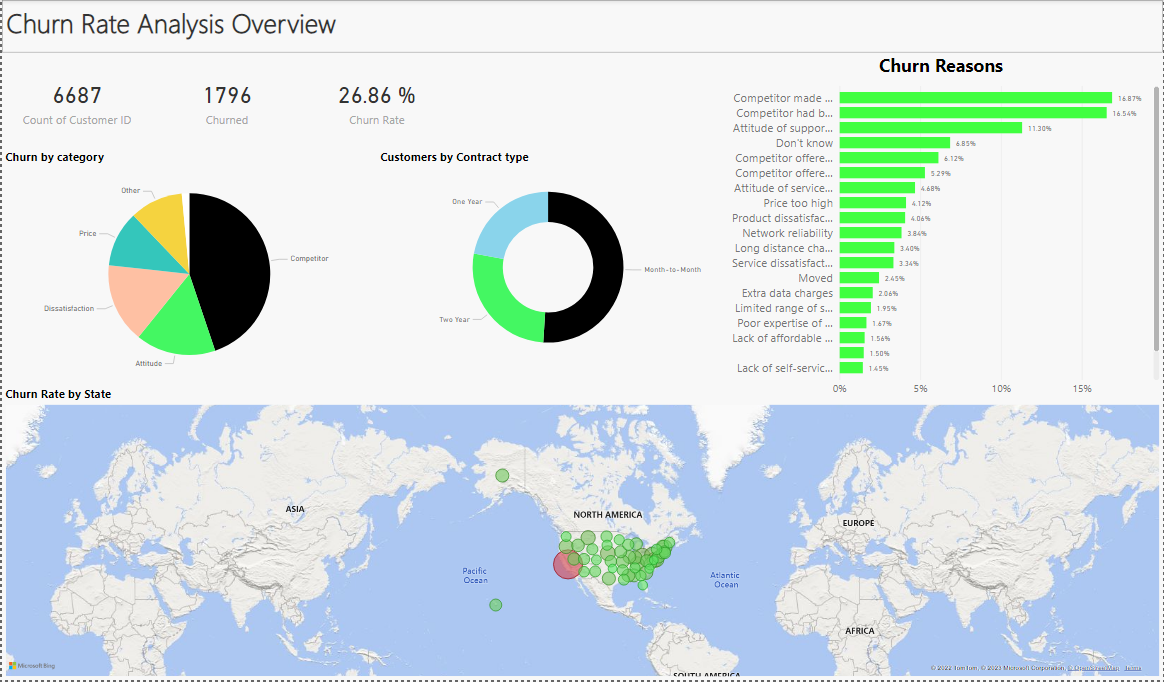

This screenshot's page, from the dashboard's own definition file:
{"tool":"powerbi","page":{"name":"Overview","canvas":[1640,960],"ordinal":0},"visuals":[{"type":"card","fields":{"Values":["Databel - Data.Churn Rate"]},"box":[423.8,74,211.9,136],"z":0},{"type":"card","fields":{"Values":["Count(Databel - Data.Customer ID)"]},"box":[0,74.2,211.9,135.6],"z":1000},{"type":"card","fields":{"Values":["Sum(Databel - Data.Churned)"]},"box":[211.9,74.2,211.9,135.6],"z":2000},{"type":"clusteredBarChart","title":"Churn Reasons","fields":{"Category":["Databel - Data.Churn Reason"],"Y":["CountNonNull(Databel - Data.Number of Customers in Group)"]},"box":[1013,74.2,627.3,495.9],"z":3000},{"type":"pieChart","title":"Churn by category","fields":{"Category":["Databel - Data.Churn Category"],"Y":["CountNonNull(Databel - Data.Churn Label)"]},"box":[0,209.1,529.2,333.2],"z":4000},{"type":"donutChart","title":"Customers by Contract type","fields":{"Y":["Count(Databel - Data.Customer ID)"],"Category":["Databel - Data.Contract Type"]},"box":[529.8,209.8,483.2,313.6],"z":5000},{"type":"map","fields":{"Category":["Databel - Data.State"],"Size":["Databel - Data.Churn Rate"]},"box":[0,544.6,1640.3,415.4],"z":6000},{"type":"textbox","box":[0,0,1640.3,74.2],"z":7000}]}

Visuals, with their boxes in screenshot pixels (x1, y1, x2, y2), scaled from the page's 1640x960 canvas onto the 1164x682 screenshot:
card - Databel - Data.Churn Rate: box=[301, 53, 451, 149]
card - Count(Databel - Data.Customer ID): box=[0, 53, 150, 149]
card - Sum(Databel - Data.Churned): box=[150, 53, 301, 149]
"Churn Reasons" clusteredBarChart: box=[719, 53, 1163, 405]
"Churn by category" pieChart: box=[0, 149, 376, 385]
"Customers by Contract type" donutChart: box=[376, 149, 719, 372]
map - Databel - Data.State x Databel - Data.Churn Rate: box=[0, 387, 1163, 681]
textbox: box=[0, 0, 1163, 53]
